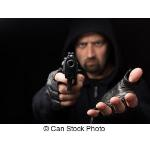Pistol: (59, 49, 79, 94)
